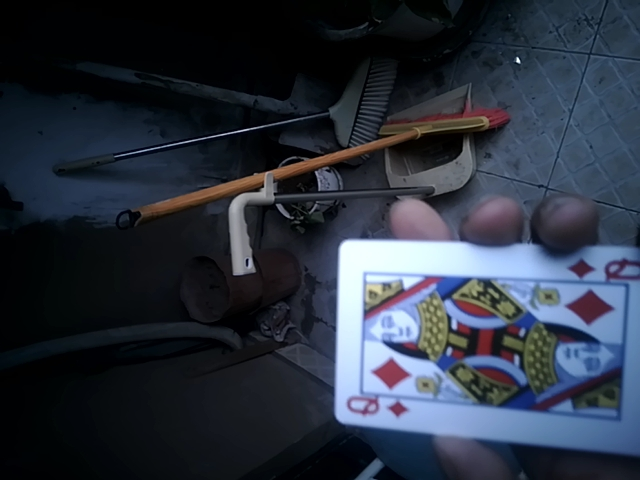fk q: (328, 233, 639, 458)
